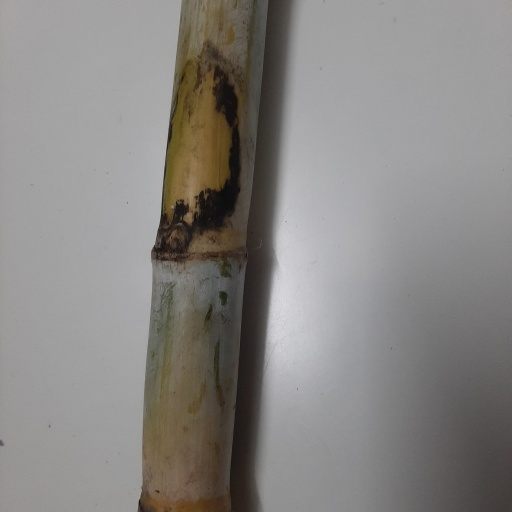Bud: (166, 225, 188, 256)
